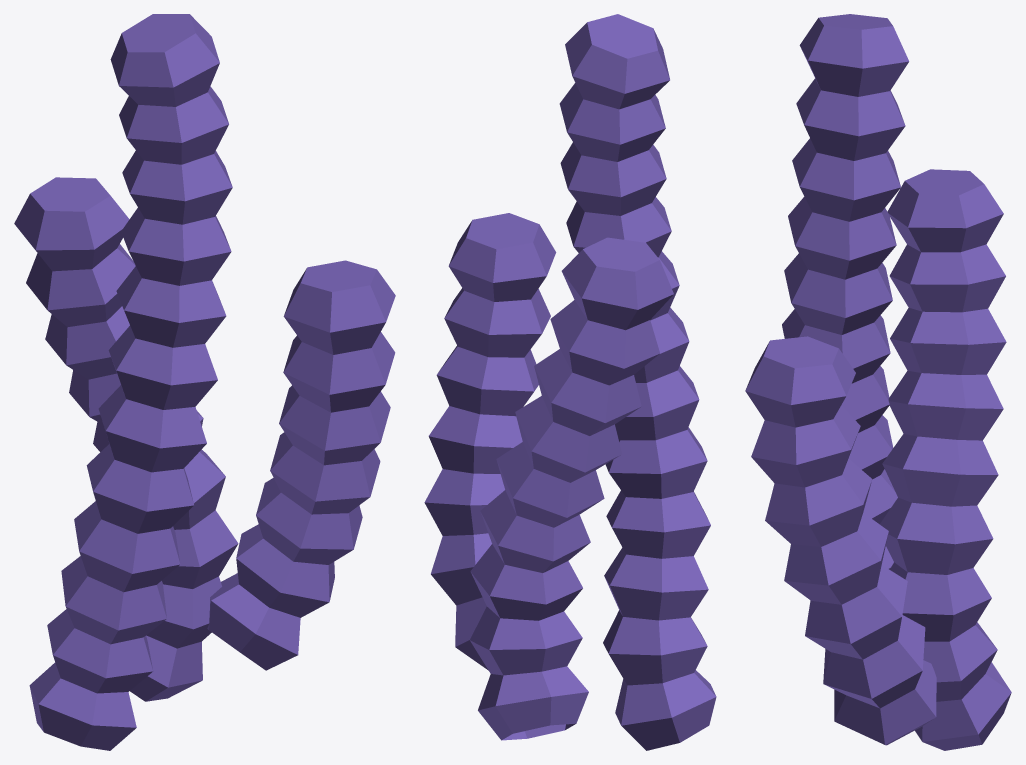
File: Coral_16.fbx
3 views of the same model, side by side, from view 1: azimuth 30°, elevation 25°; view 2: azimuth 150°, elevation 25°; view 3: azimuth 270°, elevation 25° (orthographic). The views are drawn at different scales.
Visible parts, largest first — view 1: Coral_16; view 2: Coral_16; view 3: Coral_16.
Boxes of the visible parts, <box> form: Coral_16: <box>14,14,395,750</box>; Coral_16: <box>424,14,716,750</box>; Coral_16: <box>745,14,1011,750</box>.
Bounding box in the file's own units: 37.62 × 81.56 × 27.67.
